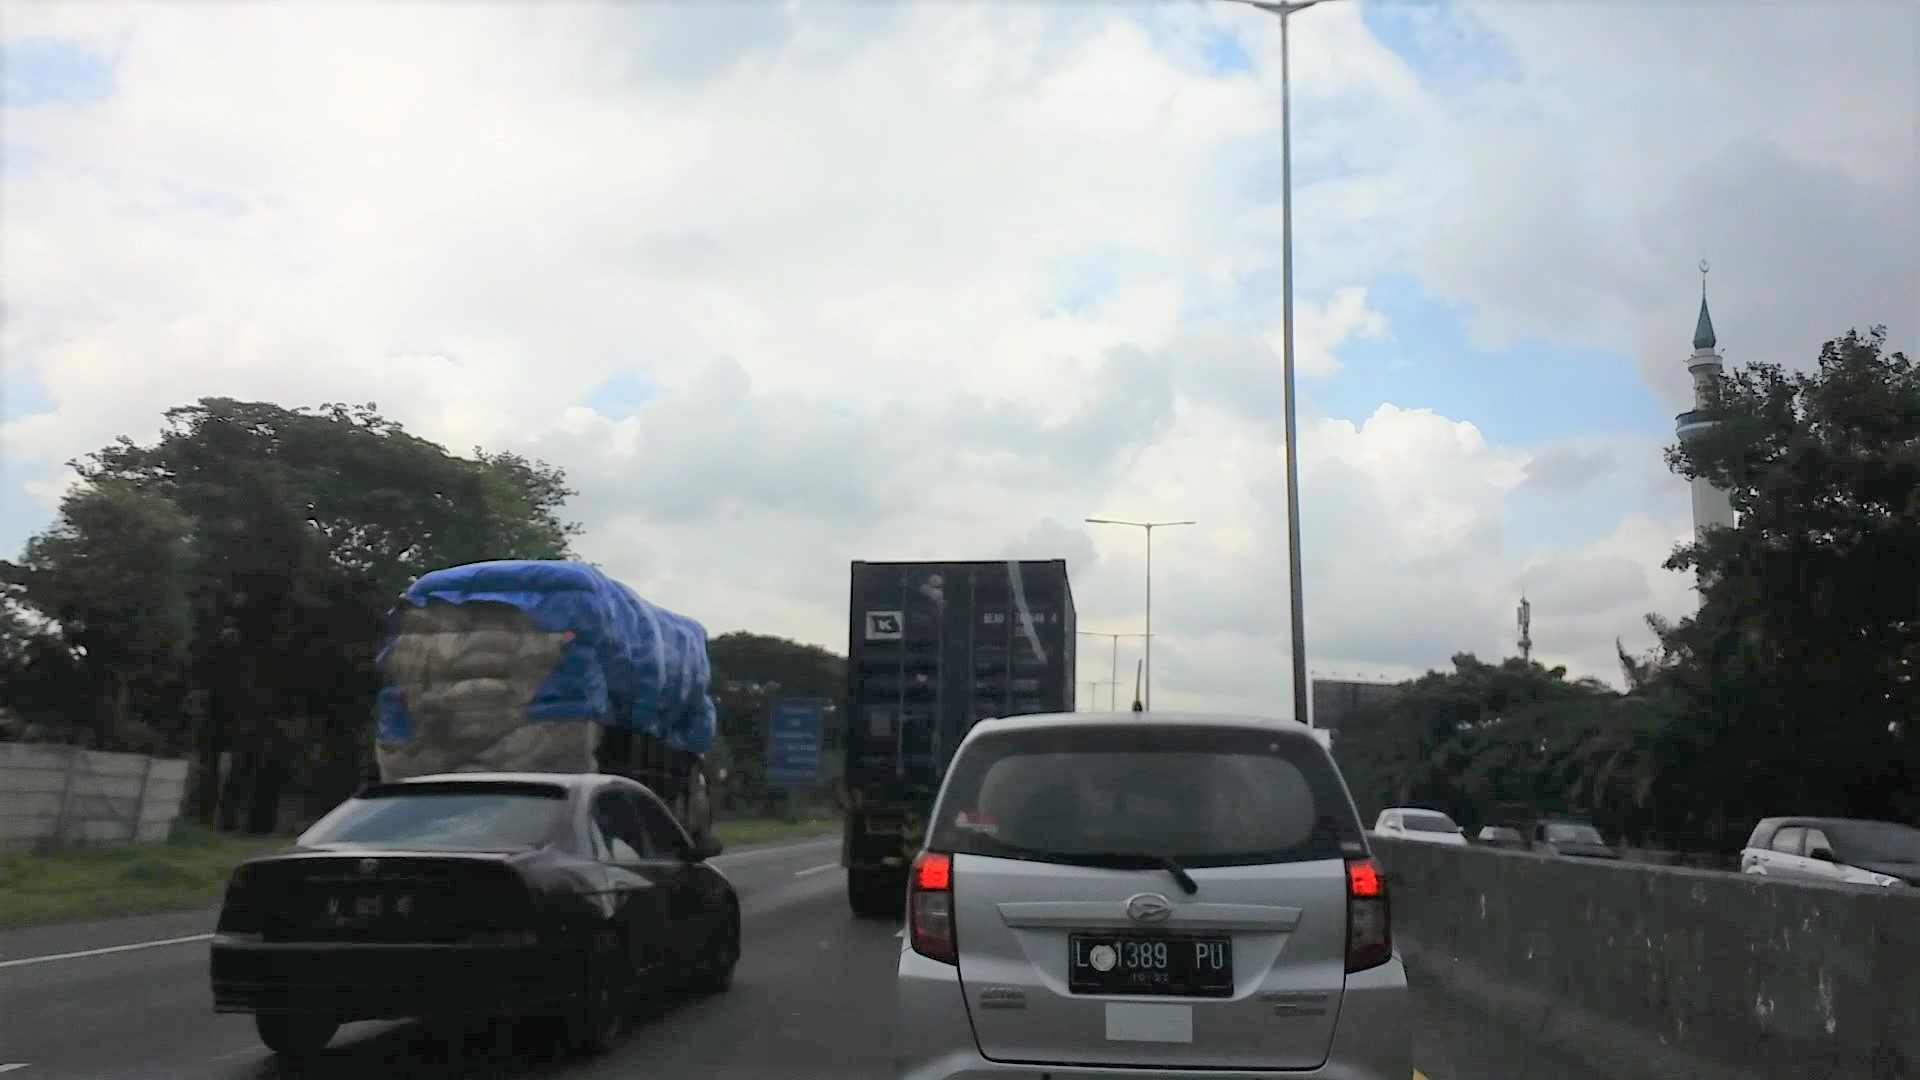plate_positive: (1069, 932, 1233, 998)
